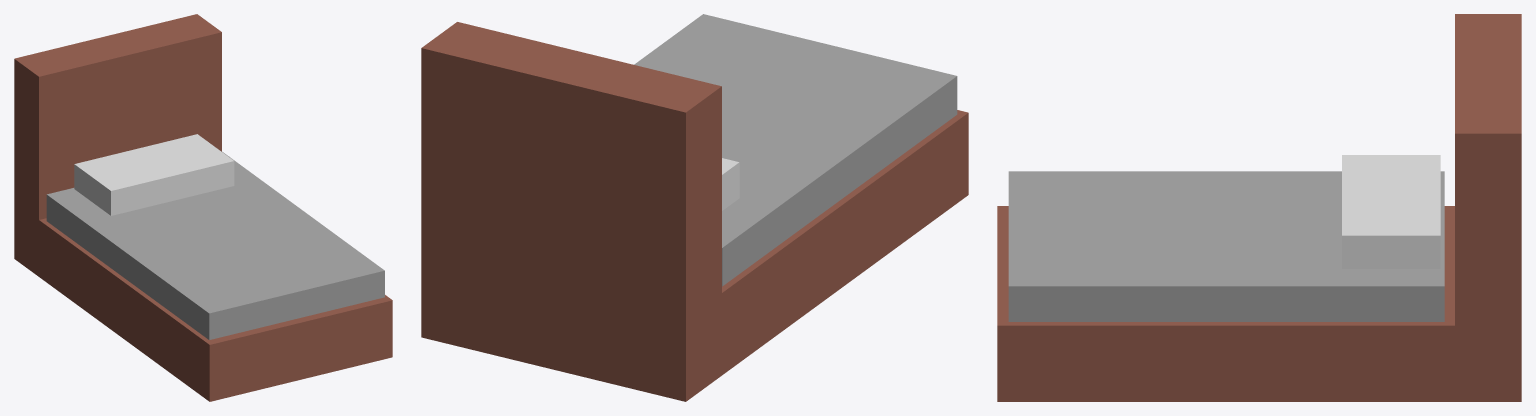
File: bed.fbx
3 views of the same model, side by side, from view 1: azimuth 30°, elevation 25°; view 2: azimuth 150°, elevation 25°; view 3: azimuth 270°, elevation 25° (orthographic). The views are drawn at different scales.
Visible parts, largest first — view 1: Cube, Cube.001, Cube.002; view 2: Cube, Cube.001, Cube.002; view 3: Cube, Cube.001, Cube.002.
Boxes of the visible parts, box(x1,y1,x2,y2) form: Cube: box(14, 14, 392, 401); Cube.001: box(46, 151, 384, 339); Cube.002: box(74, 134, 234, 215); Cube: box(421, 22, 968, 401); Cube.001: box(634, 14, 957, 286); Cube.002: box(722, 158, 739, 210); Cube: box(997, 14, 1521, 401); Cube.001: box(1008, 171, 1444, 321); Cube.002: box(1342, 155, 1440, 268).
Bounding box in the file's own units: 570 × 596 × 1056.
